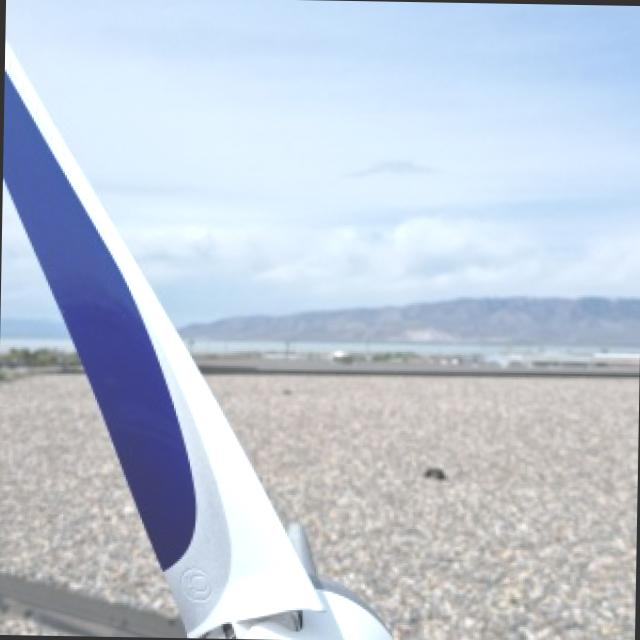healthy: (2, 39, 389, 639)
